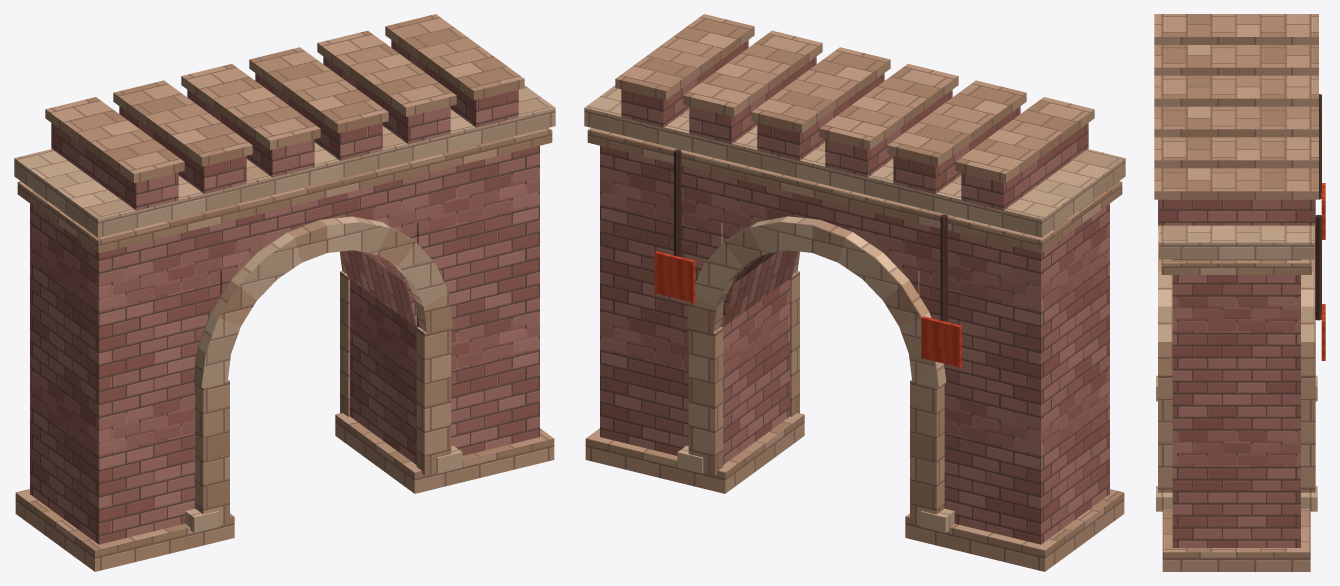
File: Gatehouse_Banners.obj
3 renders of one model, left to right at view 1: azimuth 30°, elevation 25°; view 2: azimuth 150°, elevation 25°; view 3: azimuth 270°, elevation 25°, orthographic. The views are drawn at different scales.
Visible parts, largest first — view 1: Brick_Rose, Stone_Sand, Stone_Light; view 2: Brick_Rose, Stone_Sand, Stone_Light, Cloth_Orange, Wood_Dark; view 3: Stone_Sand, Brick_Rose, Stone_Light, Wood_Dark, Cloth_Orange.
Boxes of the visible parts, x1,y1,x2,y2 form: Brick_Rose: (30, 40, 539, 544); Stone_Sand: (15, 14, 554, 571); Stone_Light: (14, 85, 555, 532); Brick_Rose: (600, 40, 1109, 544); Stone_Sand: (585, 14, 1124, 571); Stone_Light: (584, 85, 1125, 532); Cloth_Orange: (654, 251, 961, 369); Wood_Dark: (674, 149, 947, 321); Stone_Sand: (1154, 14, 1318, 571); Brick_Rose: (1158, 199, 1315, 547); Stone_Light: (1156, 225, 1317, 511); Wood_Dark: (1315, 94, 1321, 320); Cloth_Orange: (1321, 183, 1325, 360).
Size of the model in its own units: 5 by 4.09 by 1.73.
5 materials, 5 textured.
